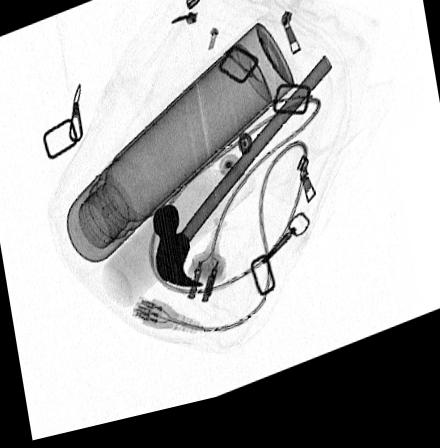Hammer: (151, 71, 332, 297)
